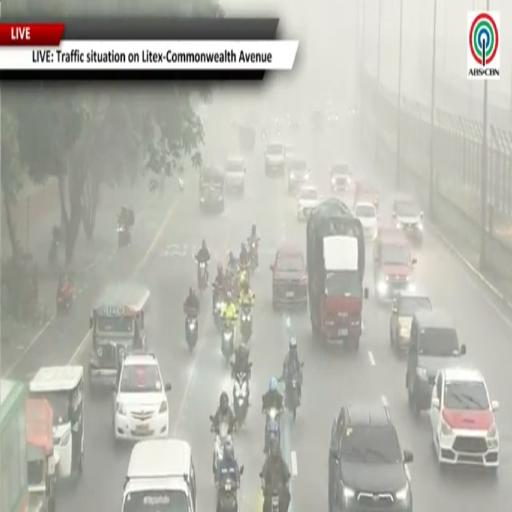bus: (0, 379, 28, 511)
car: (328, 405, 413, 511), (430, 367, 499, 468), (406, 309, 466, 417), (122, 439, 197, 511), (113, 354, 170, 440), (374, 229, 416, 300), (390, 292, 432, 350), (270, 246, 307, 309), (393, 199, 423, 245), (354, 202, 378, 241), (224, 156, 246, 195), (287, 157, 309, 194), (297, 186, 320, 220), (354, 182, 379, 209), (265, 142, 285, 175), (330, 162, 351, 193), (285, 143, 296, 169), (286, 114, 301, 130)
jeepney: (89, 283, 149, 387), (30, 365, 84, 479), (26, 398, 58, 511)
motorcycle: (211, 422, 231, 478), (233, 372, 249, 424), (265, 408, 282, 452), (217, 477, 238, 511), (285, 375, 300, 420), (221, 322, 235, 361), (186, 312, 198, 351), (213, 285, 223, 330), (240, 306, 252, 343), (57, 290, 73, 314), (117, 224, 131, 249), (249, 239, 258, 273), (48, 238, 58, 268), (198, 261, 207, 294), (270, 487, 281, 511), (239, 263, 250, 283), (179, 175, 184, 190)
truck: (307, 198, 368, 350), (200, 167, 224, 213)
